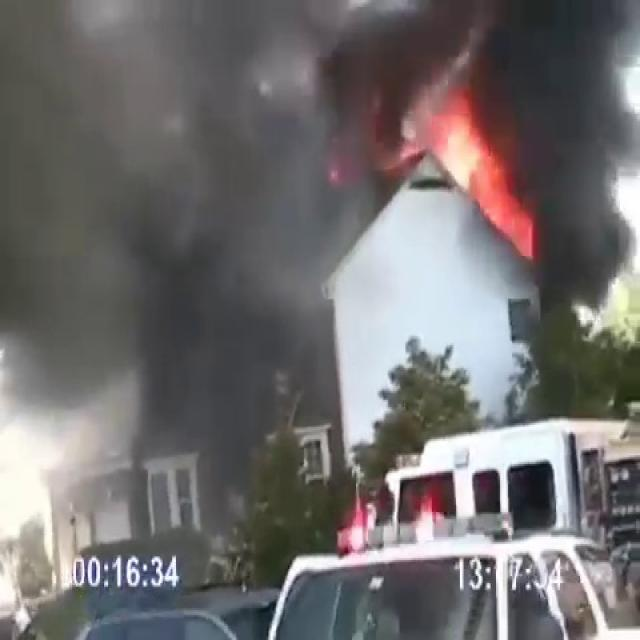Fire: (420, 82, 528, 252)
Smoke: (0, 0, 353, 582), (325, 0, 640, 372)
